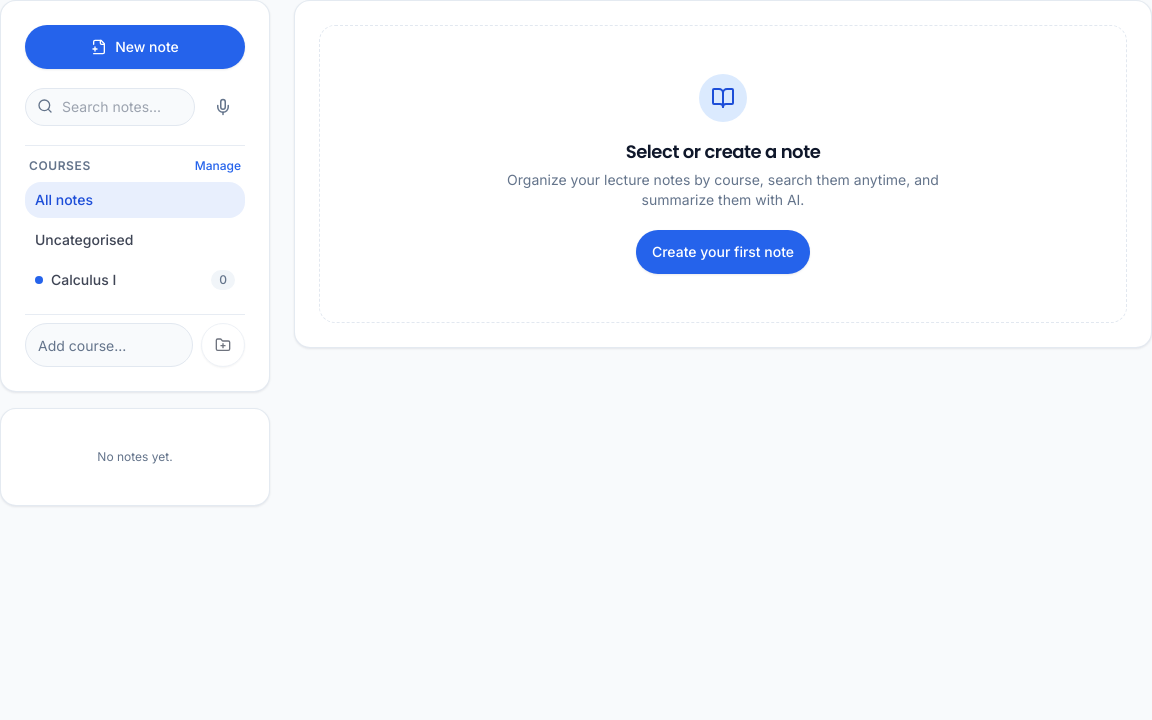
NotesPage Add course flow › creates courses via button click and Enter, prevents empty/duplicate submits, and rolls back on server error
Expected: the button named "Add course" is disabled, left=201, top=323, right=245, bottom=367
# Create via Enter key
In the field named "New course name": (109, 345) left=25, top=323, right=193, bottom=367, type "Organic Chemistry"
Then press Enter
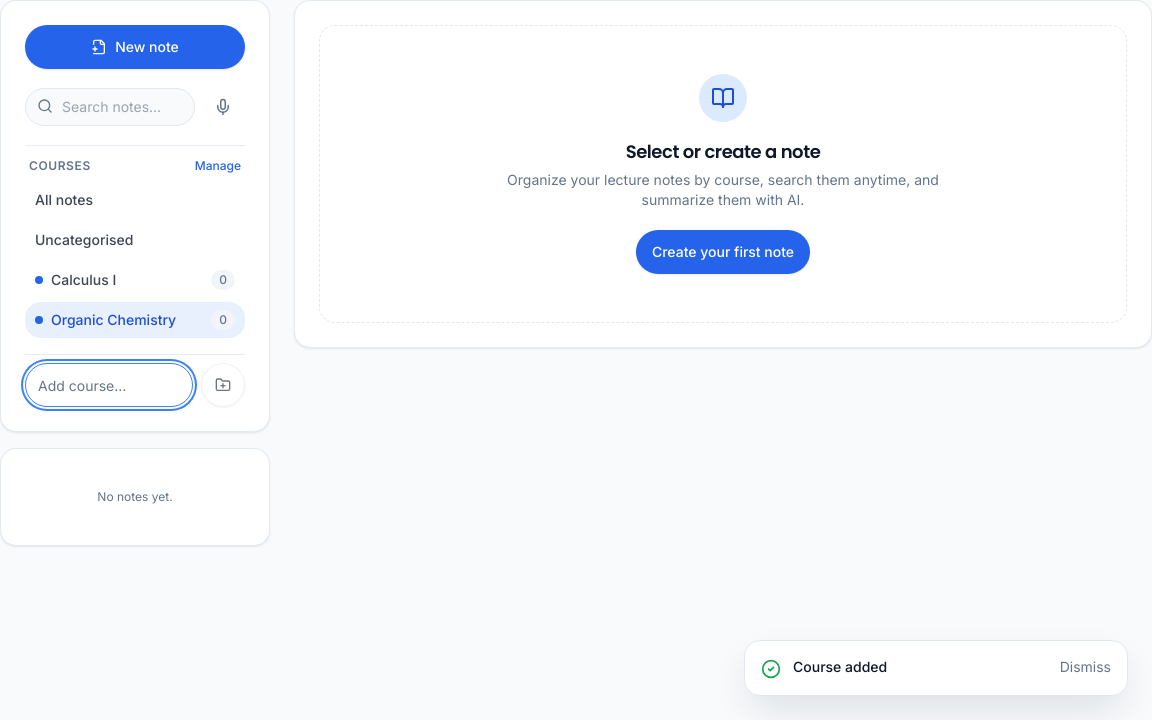
Result: the button "Organic Chemistry 0" is shown at left=25, top=302, right=245, bottom=338
# Duplicate (case-insensitive) shows inline error
In the field named "New course name": (109, 385) left=25, top=363, right=193, bottom=407, type "organic chemistry"
Then press Enter
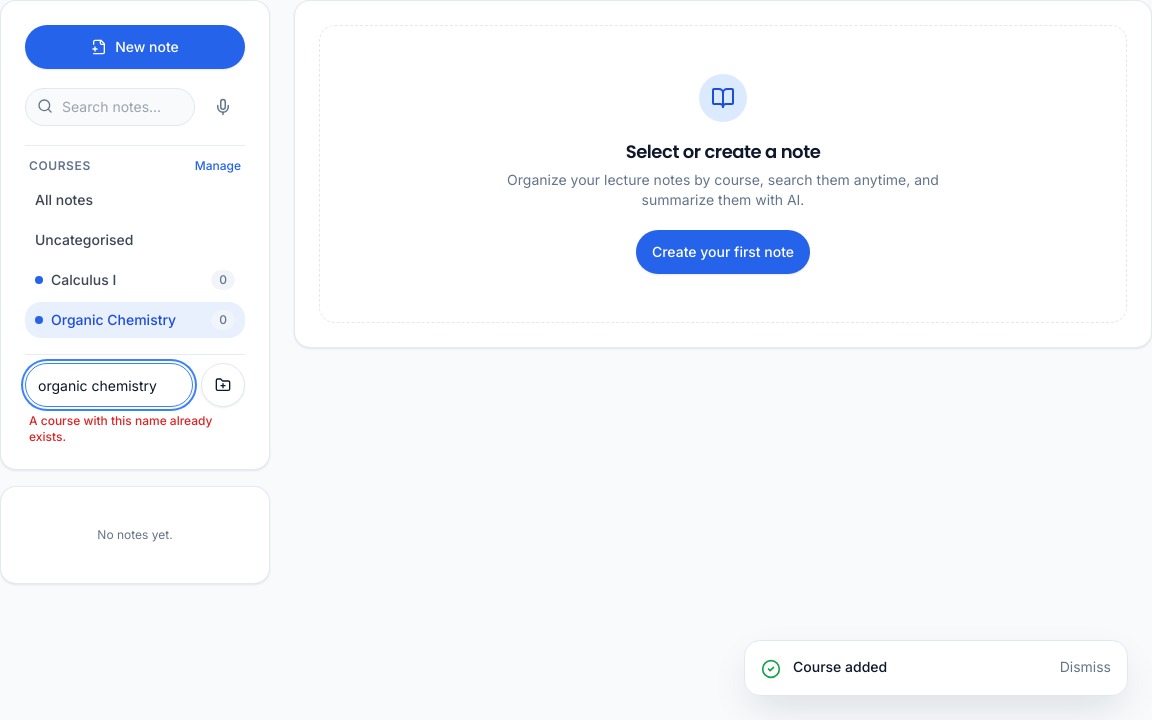
Result: the message shows "already exists" at left=29, top=413, right=212, bottom=444
Replace the text in the field named "New course name" with "Thermodynamics": (109, 385) left=25, top=363, right=193, bottom=407
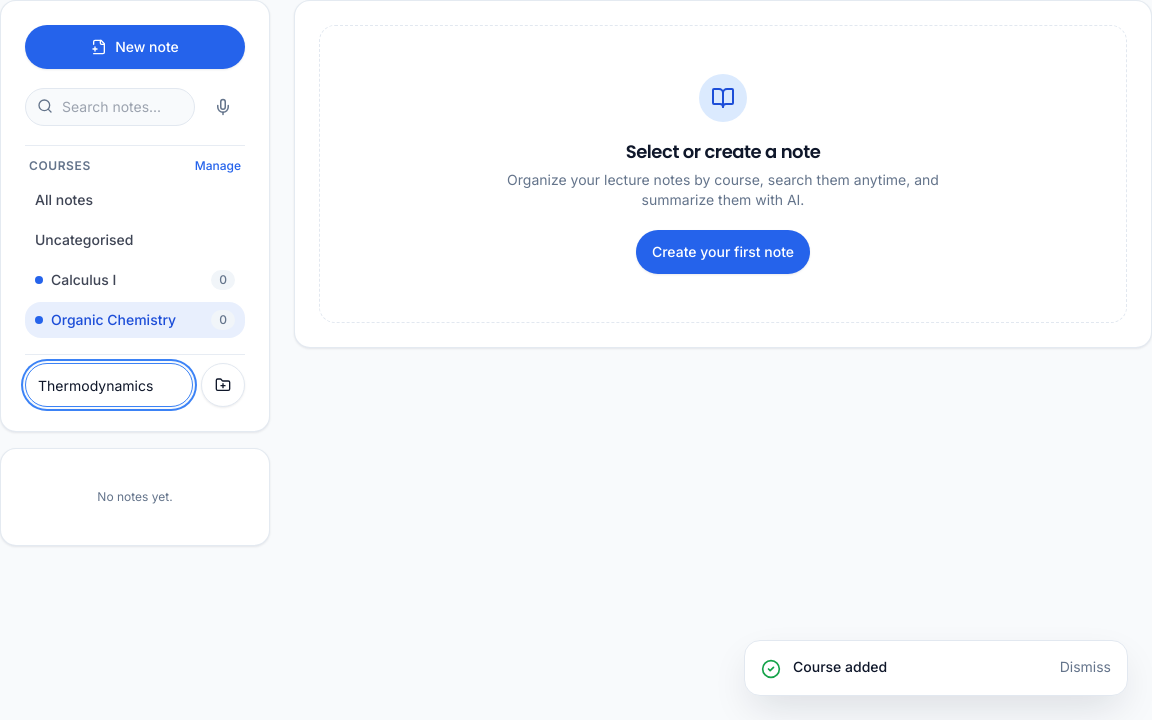
Click the button named "Add course": (223, 385) left=201, top=363, right=245, bottom=407
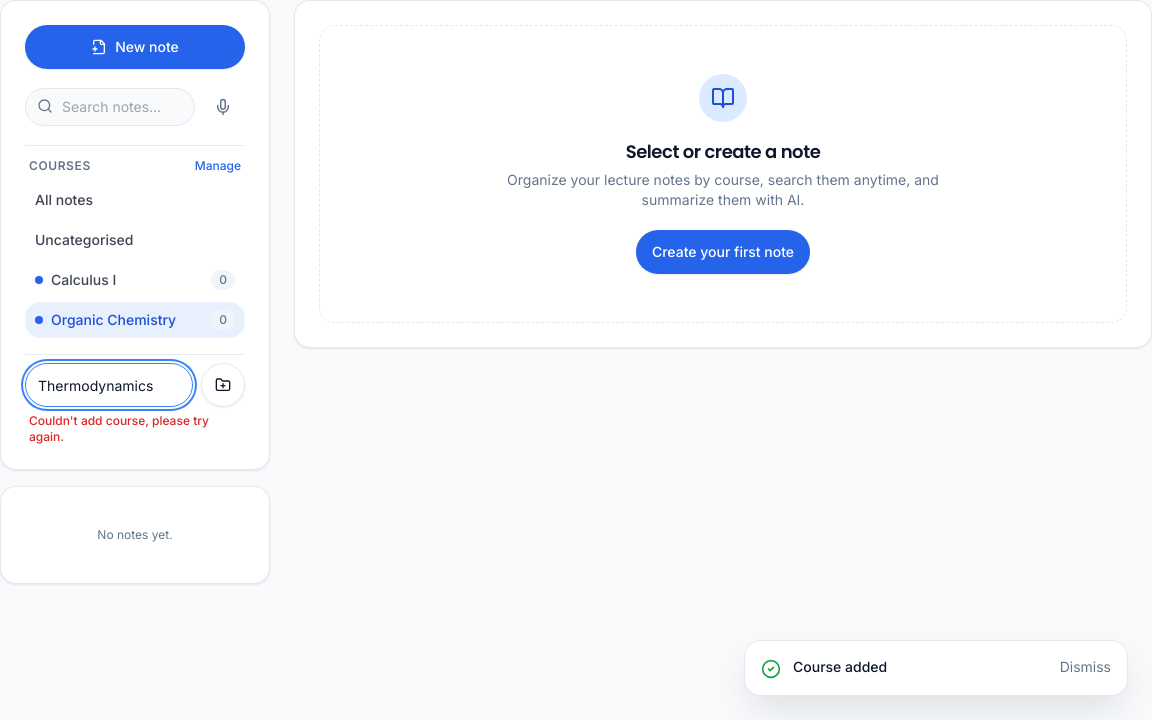
Result: the message reads "Couldn't add course, please try again." at left=29, top=413, right=209, bottom=444
